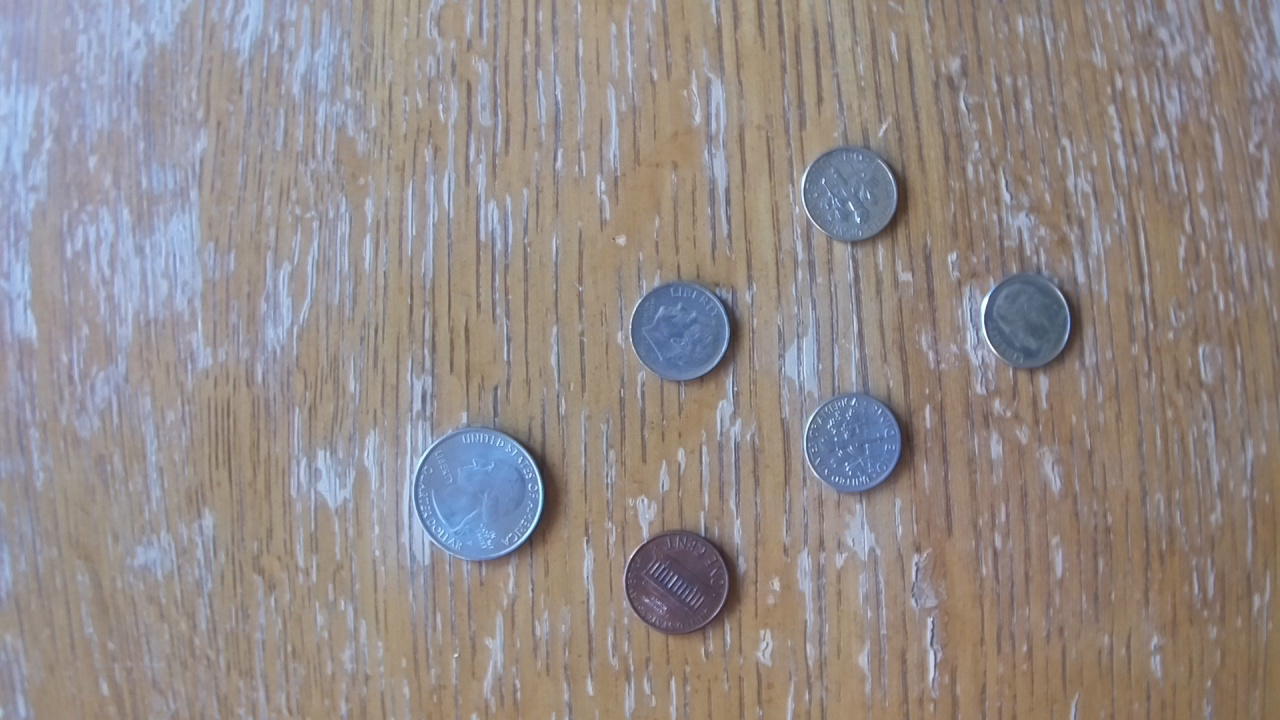dime: (626, 278, 738, 388), (799, 391, 909, 499), (794, 144, 906, 248), (980, 272, 1076, 376)
penny: (621, 526, 735, 640)
quarter: (407, 424, 549, 568)
